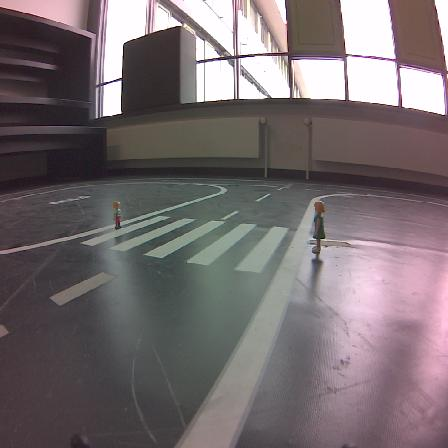CHILD: (113, 201, 121, 229)
PERSON: (312, 201, 325, 253)
